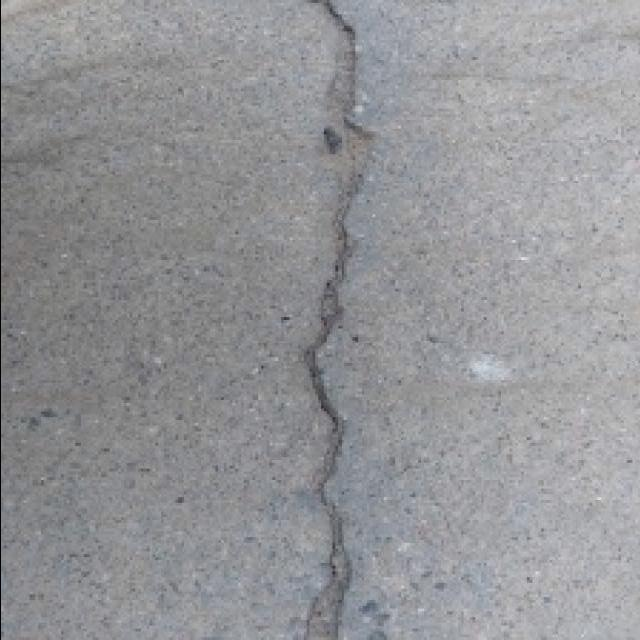SurfaceCrack: (284, 6, 404, 640)
